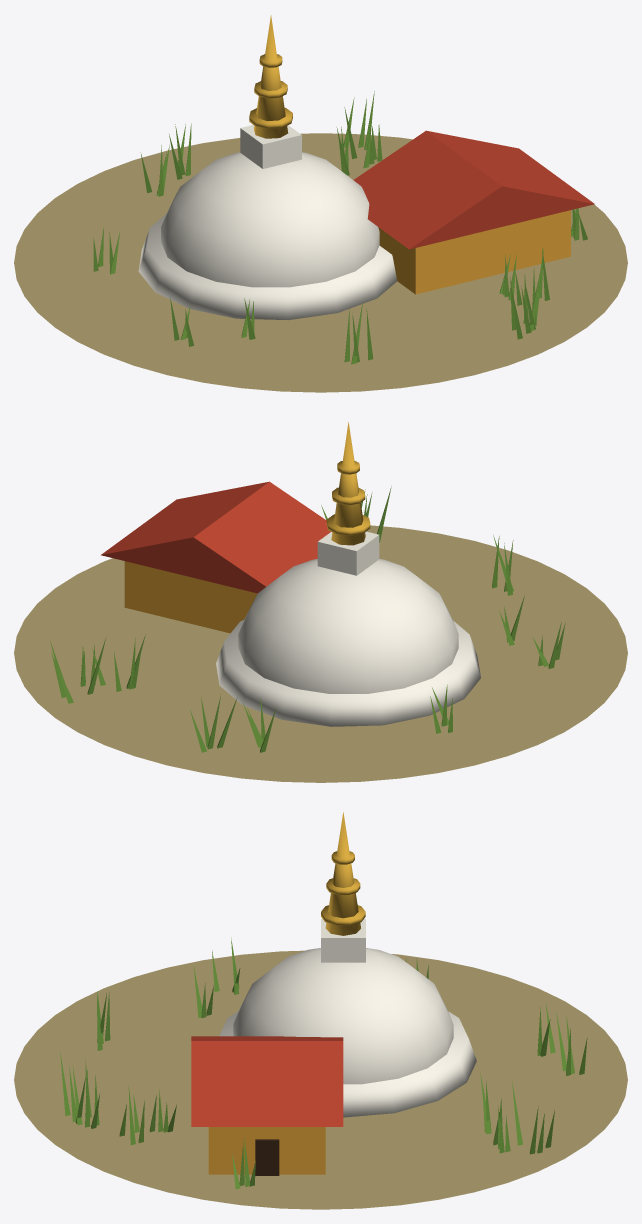
File: improvement_mahavihara.fbx
The picture shows the model from 3 angles, top to bottom: view 1: azimuth 30°, elevation 25°; view 2: azimuth 150°, elevation 25°; view 3: azimuth 270°, elevation 25°; orthographic projection.
Visible parts, largest first — view 1: improvement_mahavihara_gpatch#a89868r_00, improvement_mahavihara_stupa_02, improvement_mahavihara_mvr_05, improvement_mahavihara_mvw_04, improvement_mahavihara_leaf#6a9a3a.013_01, improvement_mahavihara_stupag_03; view 2: improvement_mahavihara_gpatch#a89868r_00, improvement_mahavihara_stupa_02, improvement_mahavihara_mvr_05, improvement_mahavihara_mvw_04, improvement_mahavihara_leaf#6a9a3a.013_01, improvement_mahavihara_stupag_03; view 3: improvement_mahavihara_gpatch#a89868r_00, improvement_mahavihara_stupa_02, improvement_mahavihara_mvr_05, improvement_mahavihara_leaf#6a9a3a.013_01, improvement_mahavihara_mvw_04, improvement_mahavihara_stupag_03, improvement_mahavihara_door.005_06.
Part boxes in pixels (x1,y1,x2,y2): improvement_mahavihara_gpatch#a89868r_00: (14,133,627,392); improvement_mahavihara_stupa_02: (138,125,397,320); improvement_mahavihara_mvr_05: (353,130,594,249); improvement_mahavihara_mvw_04: (378,210,570,294); improvement_mahavihara_leaf#6a9a3a.013_01: (93,91,587,364); improvement_mahavihara_stupag_03: (249,15,292,138); improvement_mahavihara_gpatch#a89868r_00: (14,525,627,782); improvement_mahavihara_stupa_02: (216,531,480,726); improvement_mahavihara_mvr_05: (101,481,330,593); improvement_mahavihara_mvw_04: (124,561,257,633); improvement_mahavihara_leaf#6a9a3a.013_01: (50,486,565,752); improvement_mahavihara_stupag_03: (326,422,370,545); improvement_mahavihara_gpatch#a89868r_00: (14,950,627,1209); improvement_mahavihara_stupa_02: (219,919,476,1117); improvement_mahavihara_mvr_05: (191,1036,343,1126); improvement_mahavihara_leaf#6a9a3a.013_01: (60,937,587,1189); improvement_mahavihara_mvw_04: (208,1127,325,1174); improvement_mahavihara_stupag_03: (321,812,365,935); improvement_mahavihara_door.005_06: (255,1139,279,1175).
Bounding box in the file's own units: 137 × 76 × 137.
